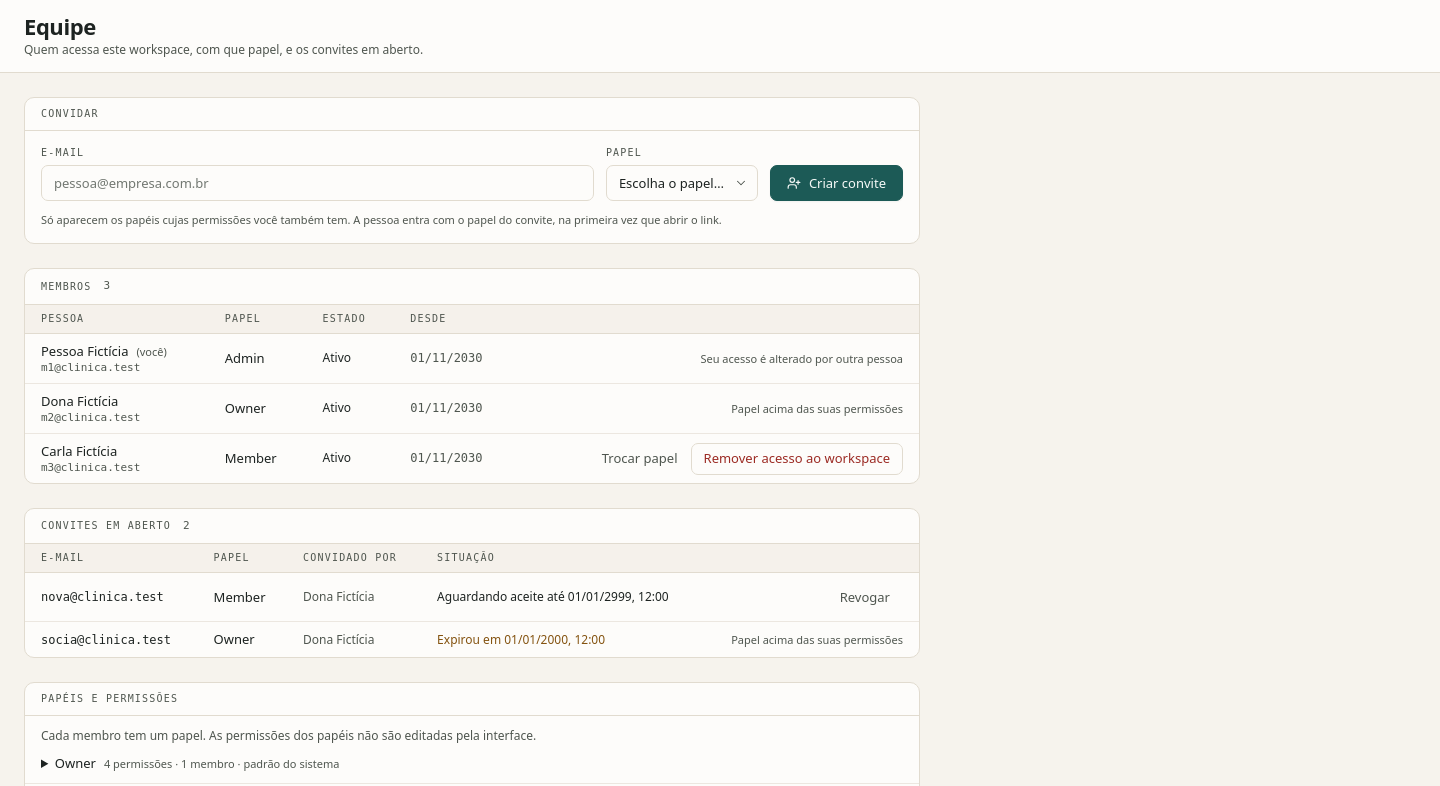
Scenario: quem administra a equipe › convites: o de papel acima não se revoga; o outro mostra o efeito e revoga
Expected: the text "Expirou em 01/01/2000, 12:00" is shown, [437,631,605,648]
Expected: the text "Aguardando aceite até 01/01/2999, 12:00" is shown, [421,573,702,622]
Click the button with aria-label "Revogar o convite de nova@clinica.test".
click(865, 598)  # box [827,582,903,614]
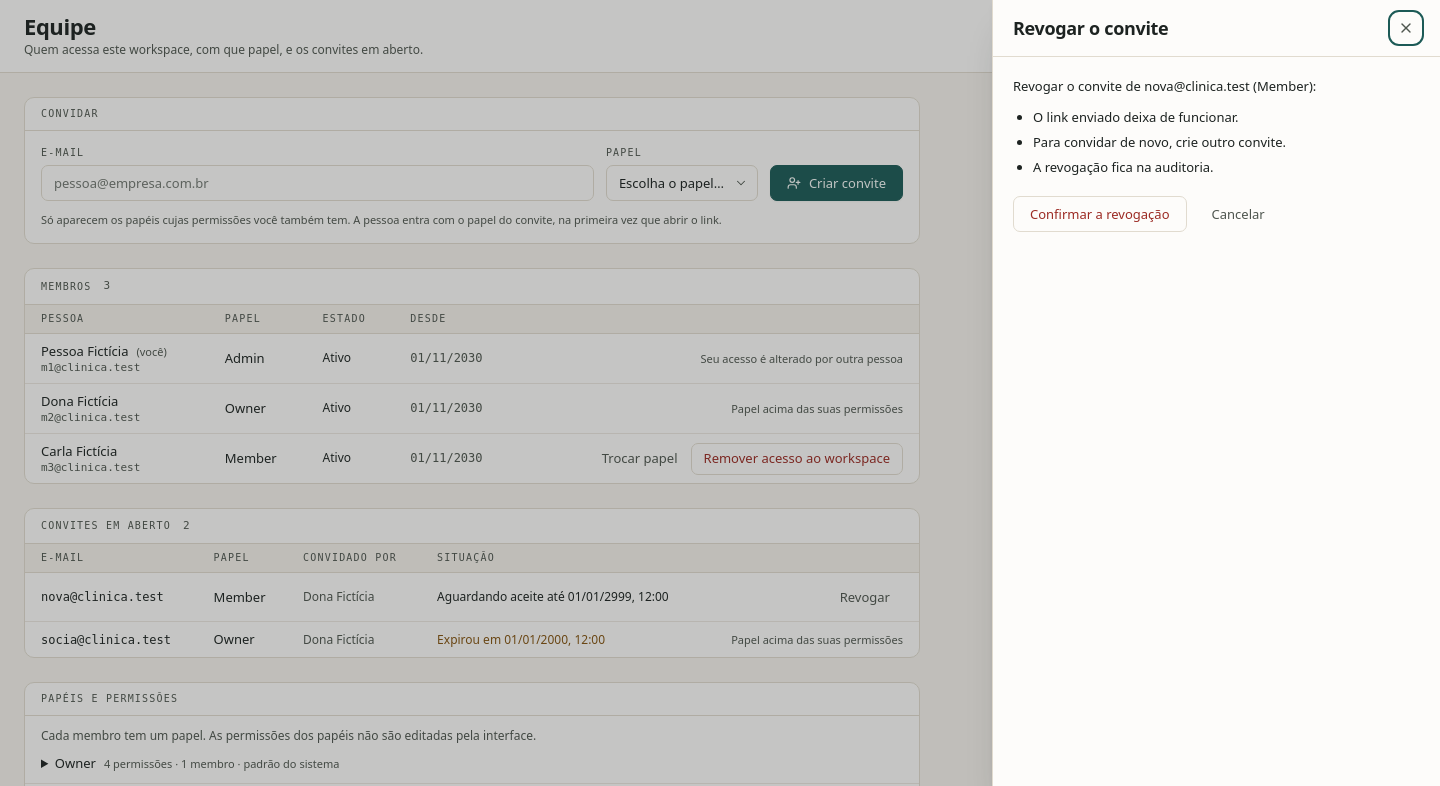
Now the list item "O link enviado deixa de funcionar." is shown, box [1033,108,1238,126]
Click the button "Confirmar a revogação".
click(1100, 214)  # box [1013,196,1186,232]
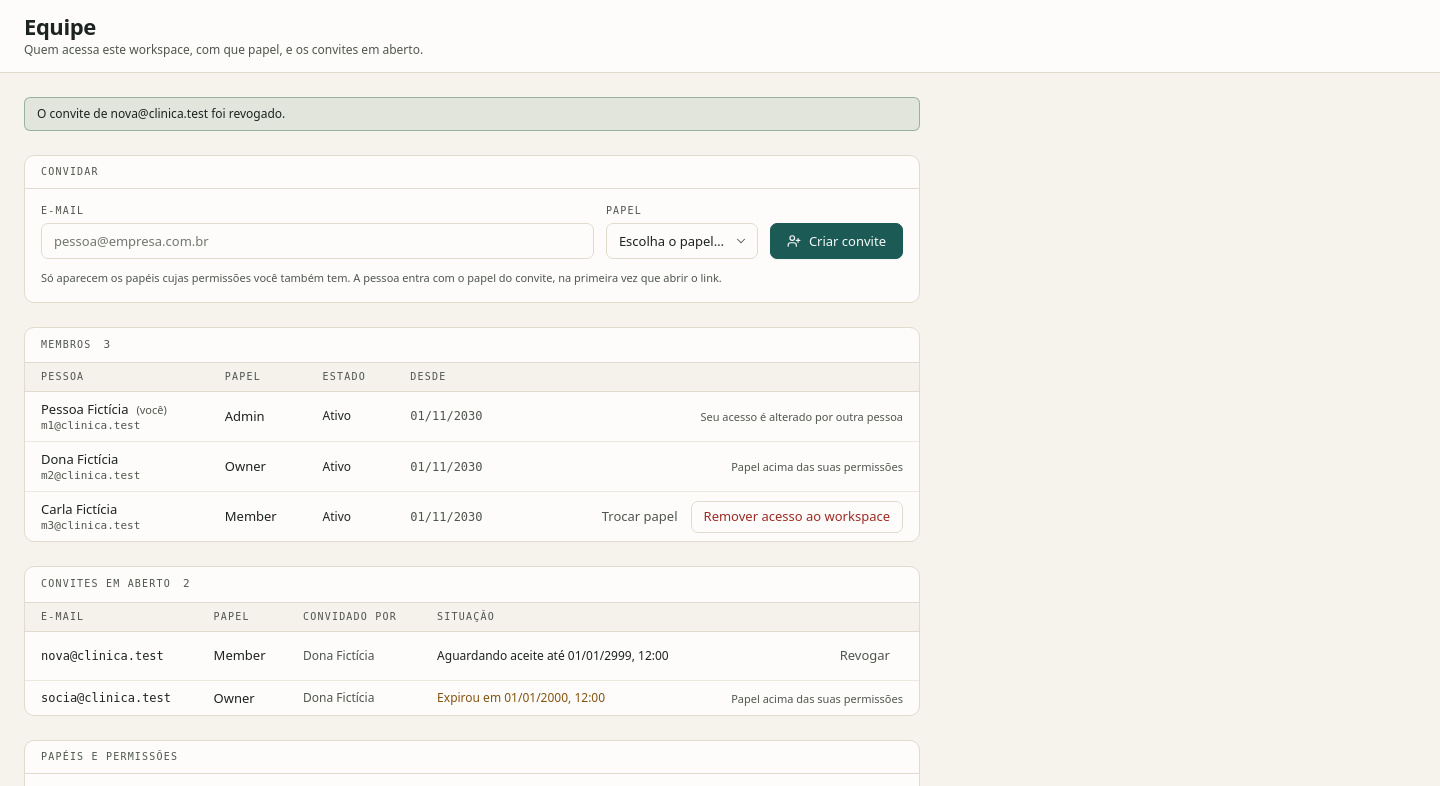
Now the message reads "O convite de nova@clinica.test foi revogado.", box [37,105,285,122]
